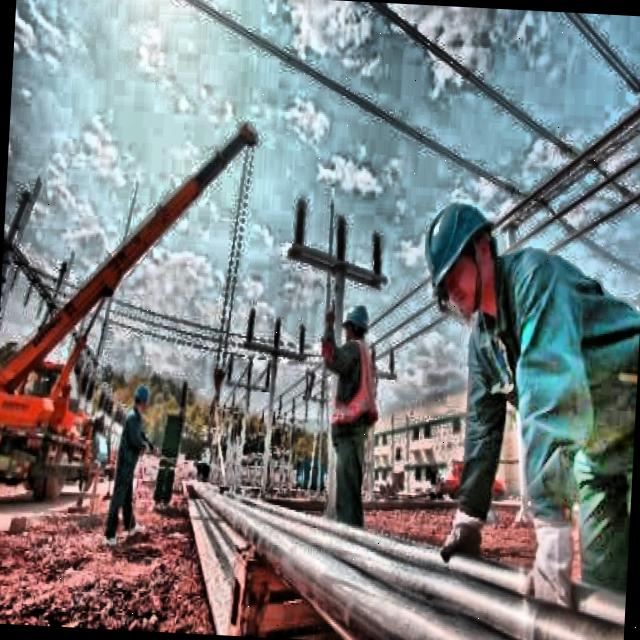helmet: (412, 189, 506, 326), (339, 298, 374, 347), (132, 380, 152, 421)
